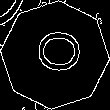O_W: (28, 31, 82, 79)
